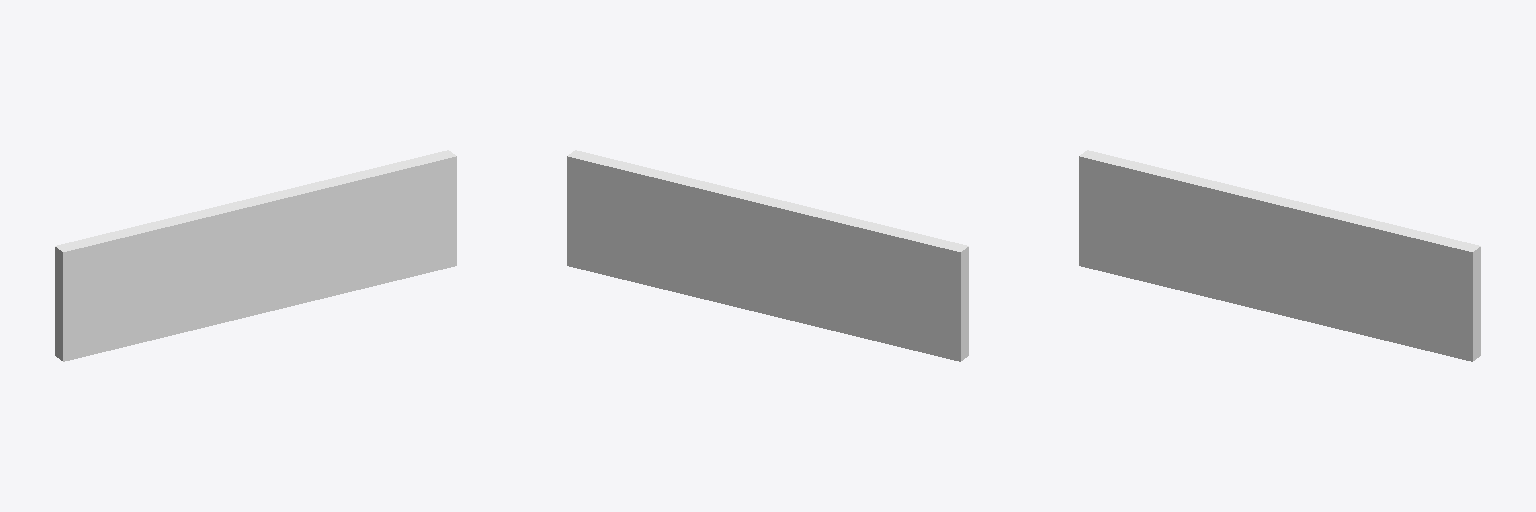
File: CreateMode.obj
The picture shows the model from 3 angles: view 1: azimuth 30°, elevation 25°; view 2: azimuth 150°, elevation 25°; view 3: azimuth 330°, elevation 25°; orthographic projection.
Parts seen in each view (by area): view 1: object 1; view 2: object 1; view 3: object 1.
Boxes of the visible parts, x1=… form: object 1: x1=55, y1=150, x2=456, y2=361; object 1: x1=567, y1=150, x2=968, y2=361; object 1: x1=1079, y1=150, x2=1480, y2=361.
Bounding box in the file's own units: 7.9 × 2.1 × 0.3.